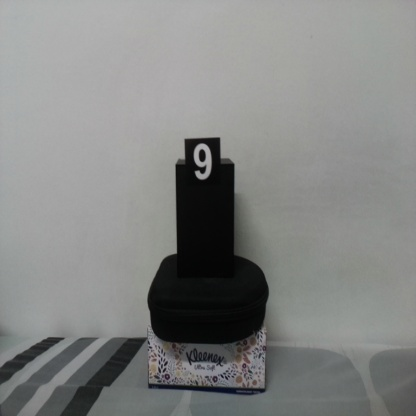id_9: (184, 140, 221, 192)
